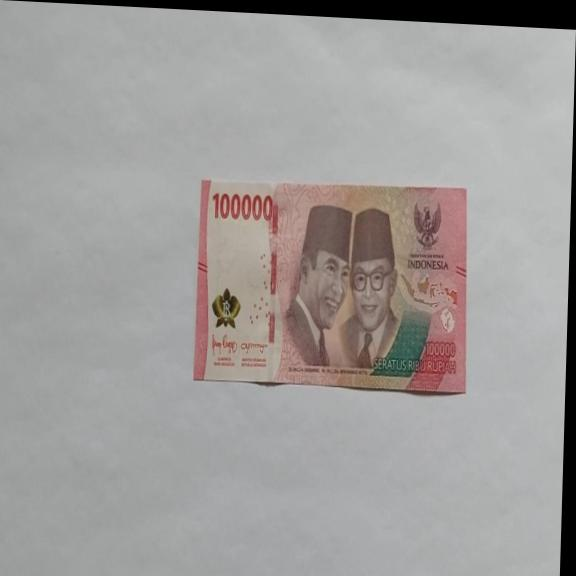Kertas: (193, 173, 471, 397), (211, 189, 274, 224)
